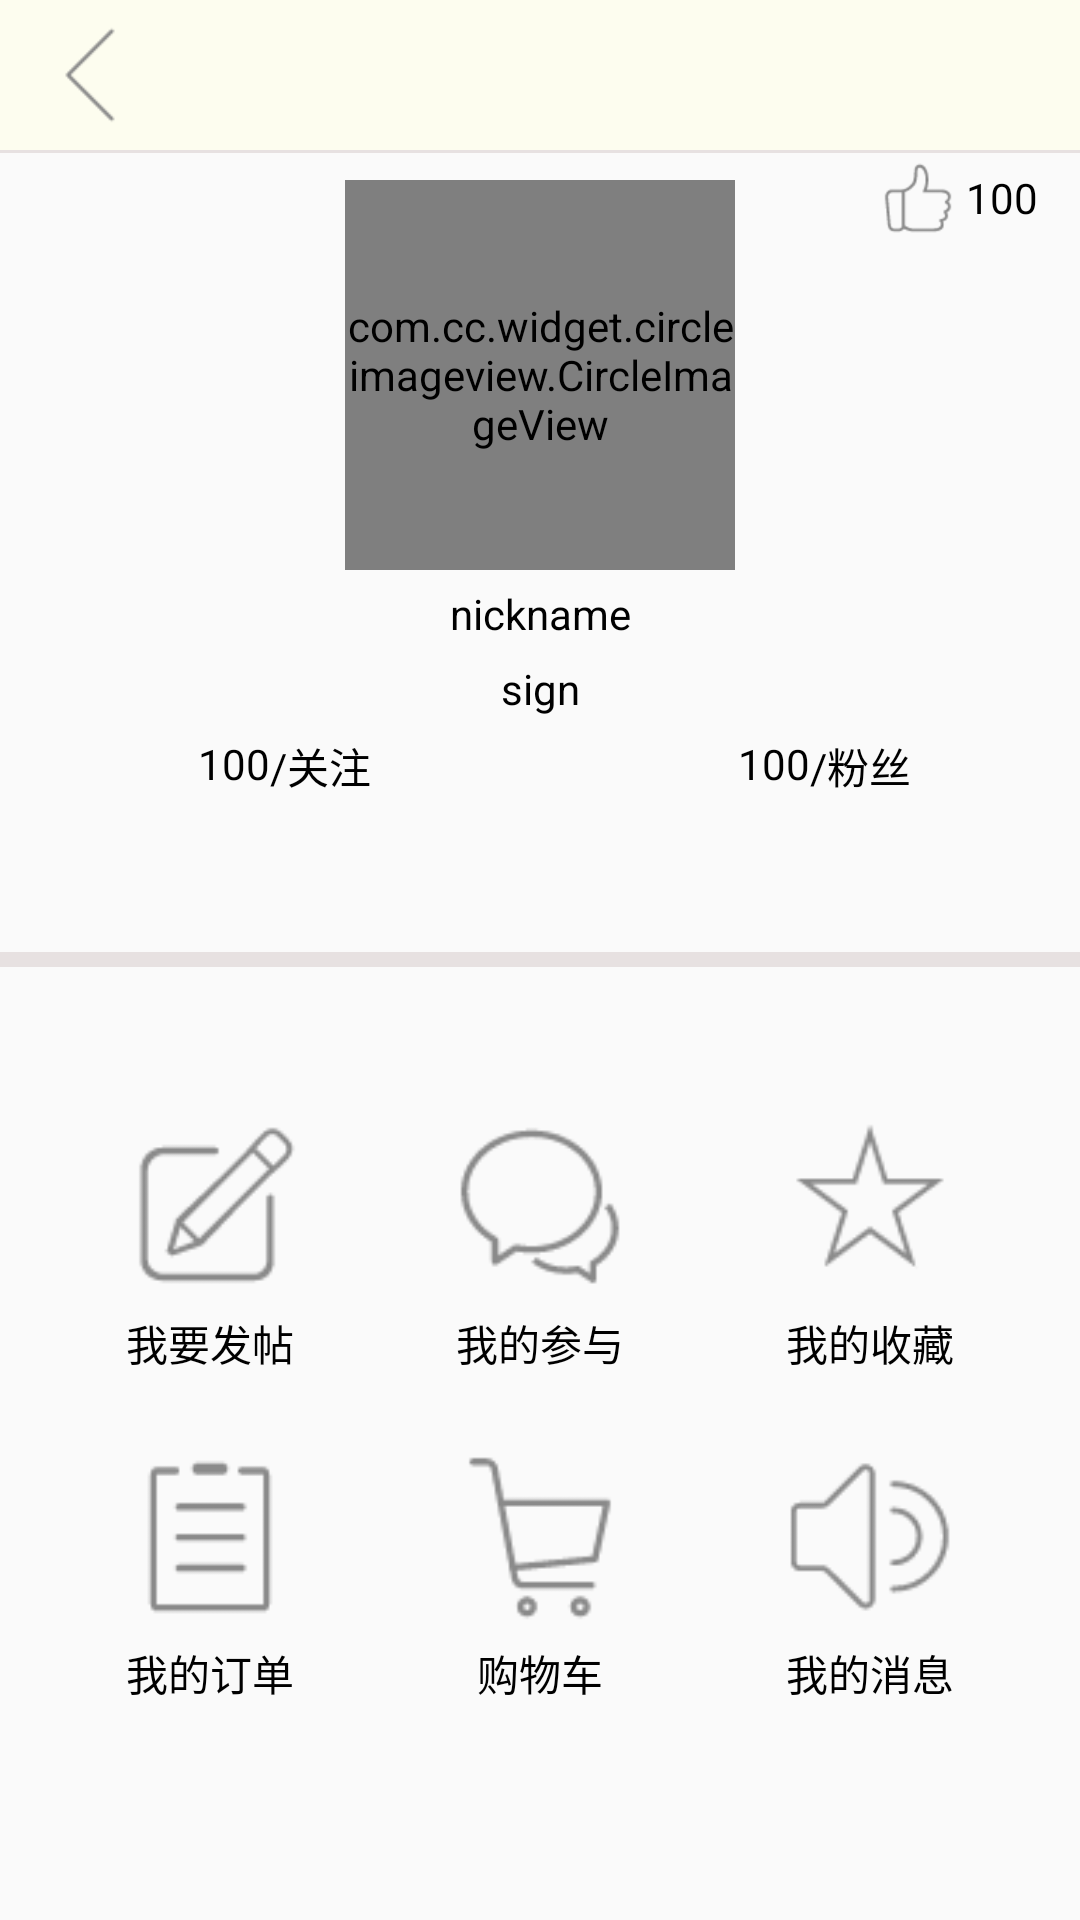

Icons on this 1080 × 1920 Android screen, each with its box as (x1, y1, x2, y2):
back: (65, 29, 114, 121)
collection false: (797, 1126, 943, 1267)
praise: (885, 164, 951, 232)
